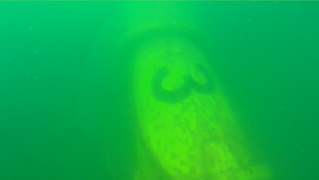3: (151, 62, 218, 104)
pipe: (114, 1, 273, 179)
